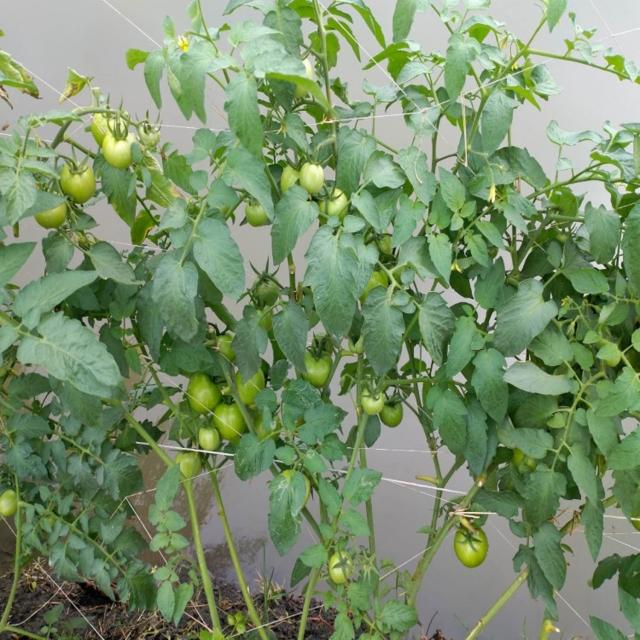tomato: (451, 521, 499, 568), (298, 346, 340, 394), (59, 159, 108, 197), (317, 182, 351, 224), (185, 374, 223, 409), (104, 134, 140, 170), (236, 369, 269, 407), (332, 549, 362, 587), (382, 394, 412, 430), (216, 407, 246, 442), (243, 199, 272, 234), (251, 275, 286, 304), (270, 160, 301, 192), (88, 108, 120, 138), (1, 485, 25, 524), (192, 427, 226, 453), (31, 205, 73, 226), (300, 159, 328, 189), (139, 124, 164, 157), (357, 386, 382, 417), (245, 296, 274, 322), (179, 447, 199, 480)
